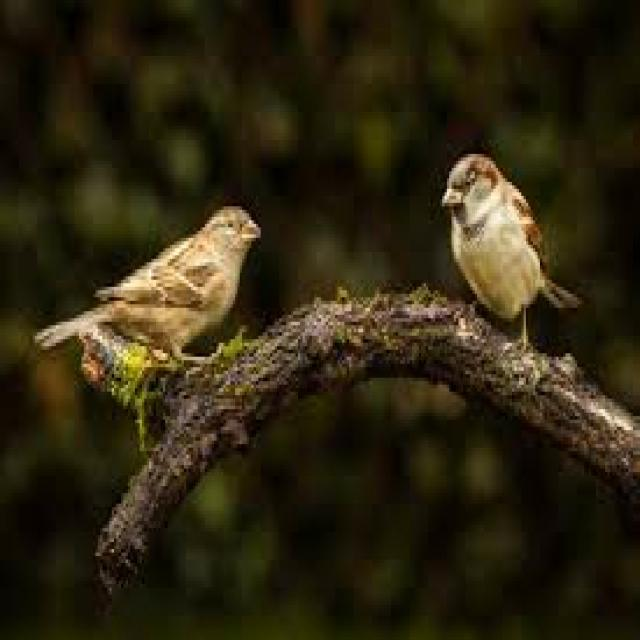sparrow: (35, 206, 258, 357), (442, 154, 577, 343)
